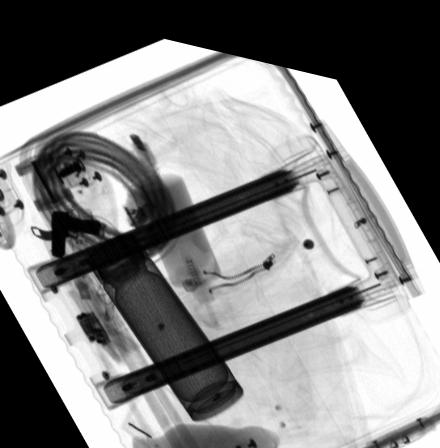Gun: (50, 207, 101, 253)
